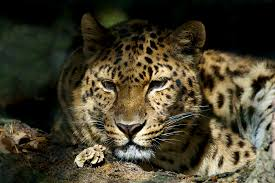amur_leopard: (26, 7, 235, 173)
